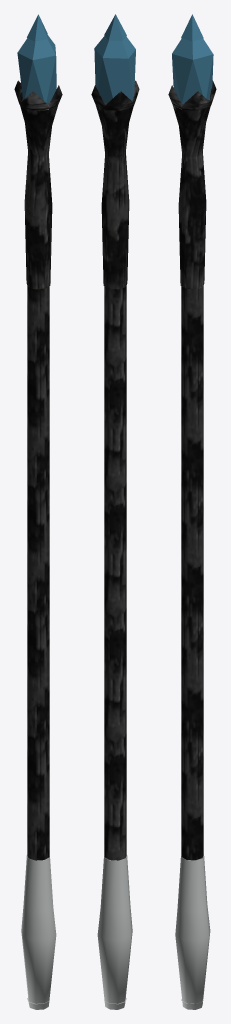
File: SM_Staff_03.fbx
3 renders of one model, left to right at view 1: azimuth 30°, elevation 25°; view 2: azimuth 150°, elevation 25°; view 3: azimuth 330°, elevation 25°, orthographic.
Parts seen in each view (by area): view 1: SM_Staff_03; view 2: SM_Staff_03; view 3: SM_Staff_03.
Part boxes in pixels (x1,y1,x2,y2): SM_Staff_03: [14, 14, 62, 1009]; SM_Staff_03: [91, 14, 139, 1009]; SM_Staff_03: [168, 14, 216, 1009].
Size of the model in its own units: 6.65 by 165 by 6.65.
